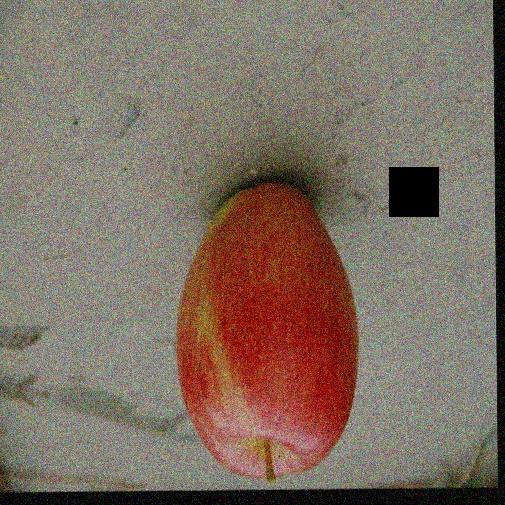red apple: (175, 182, 360, 482)
